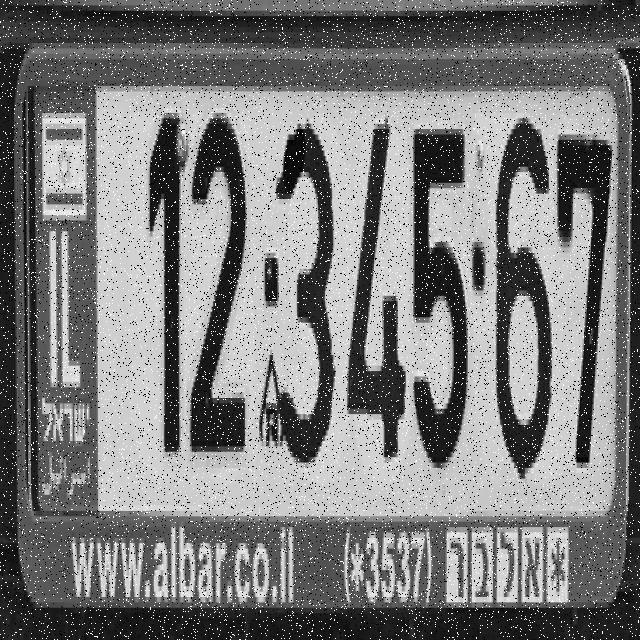licenseplate: (9, 2, 638, 629)
